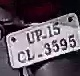1: (45, 24, 54, 38)
3: (43, 41, 53, 57)
5: (52, 22, 63, 36), (68, 33, 78, 48), (52, 38, 60, 55)
9: (60, 38, 68, 53)
C: (16, 49, 27, 64)
L: (25, 47, 37, 61)
P: (35, 27, 42, 43)
U: (26, 30, 37, 44)
